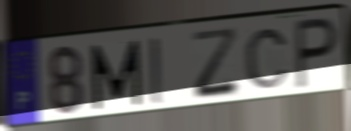8: (47, 43, 85, 119)
C: (243, 26, 292, 91)
I: (148, 35, 166, 107)
M: (89, 37, 144, 113)
P: (294, 15, 340, 92)
Z: (190, 25, 243, 102)
